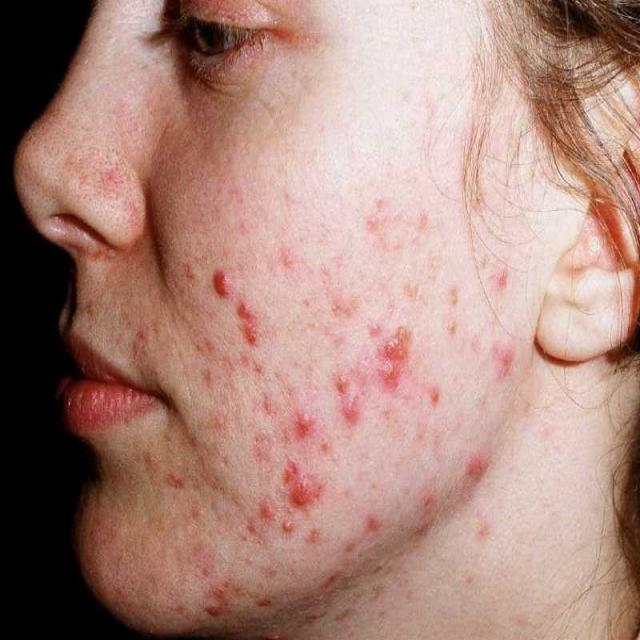Acne: (151, 153, 529, 608)
